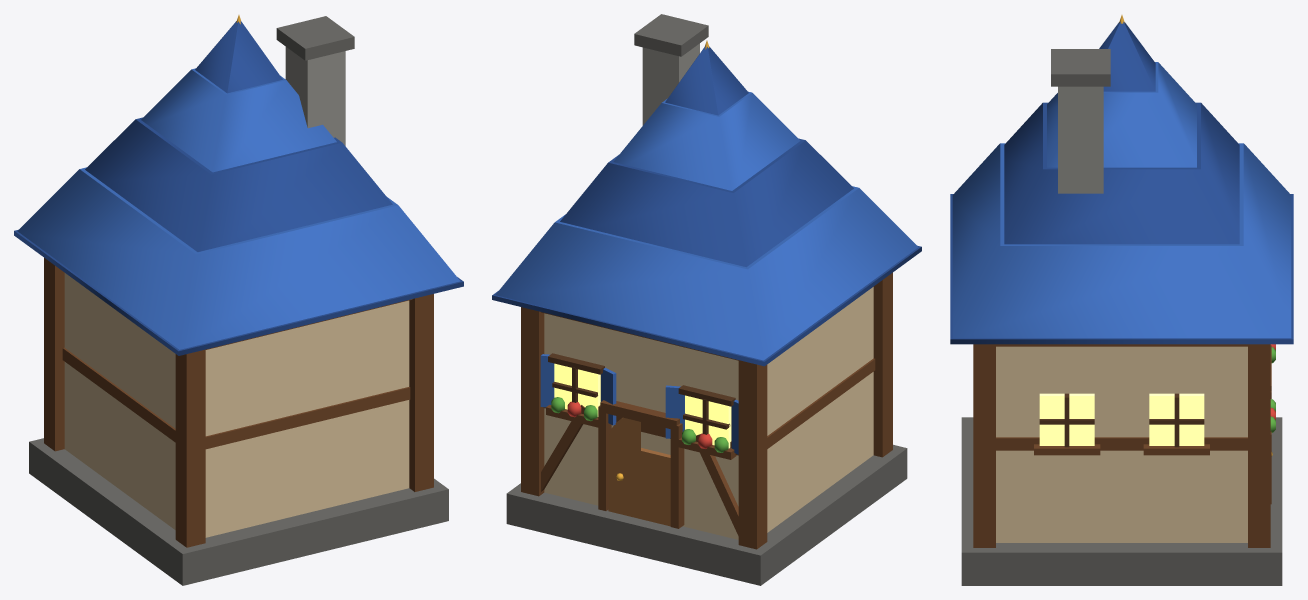
The model's file is HavenHouseBlue.glb.
3 renders of one model, left to right at view 1: azimuth 30°, elevation 25°; view 2: azimuth 150°, elevation 25°; view 3: azimuth 270°, elevation 25°, orthographic. The views are drawn at different scales.
Parts seen in each view (by area): view 1: Body; view 2: Body, Lamp; view 3: Body, Lamp.
Part boxes in pixels (x1=…): Body: x1=14, y1=15, x2=463, y2=585; Body: x1=492, y1=14, x2=921, y2=585; Lamp: x1=554, y1=363, x2=731, y2=448; Body: x1=950, y1=15, x2=1293, y2=585; Lamp: x1=1039, y1=393, x2=1204, y2=445.
Size of the model in its own units: 7.5 by 12.15 by 7.5.
2 materials, 1 textured.
